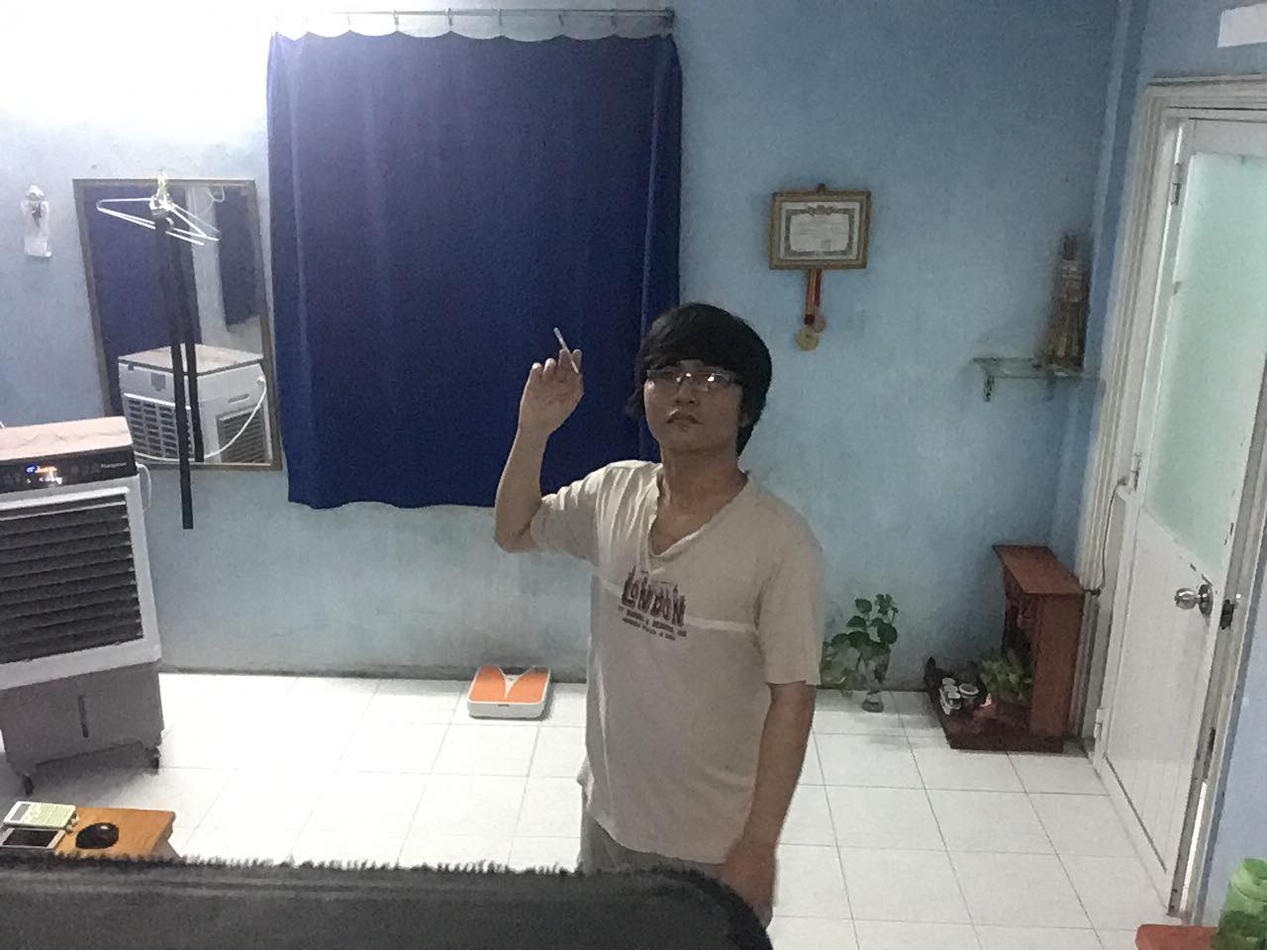cigarette: (550, 325, 571, 351)
person: (491, 311, 828, 920)
